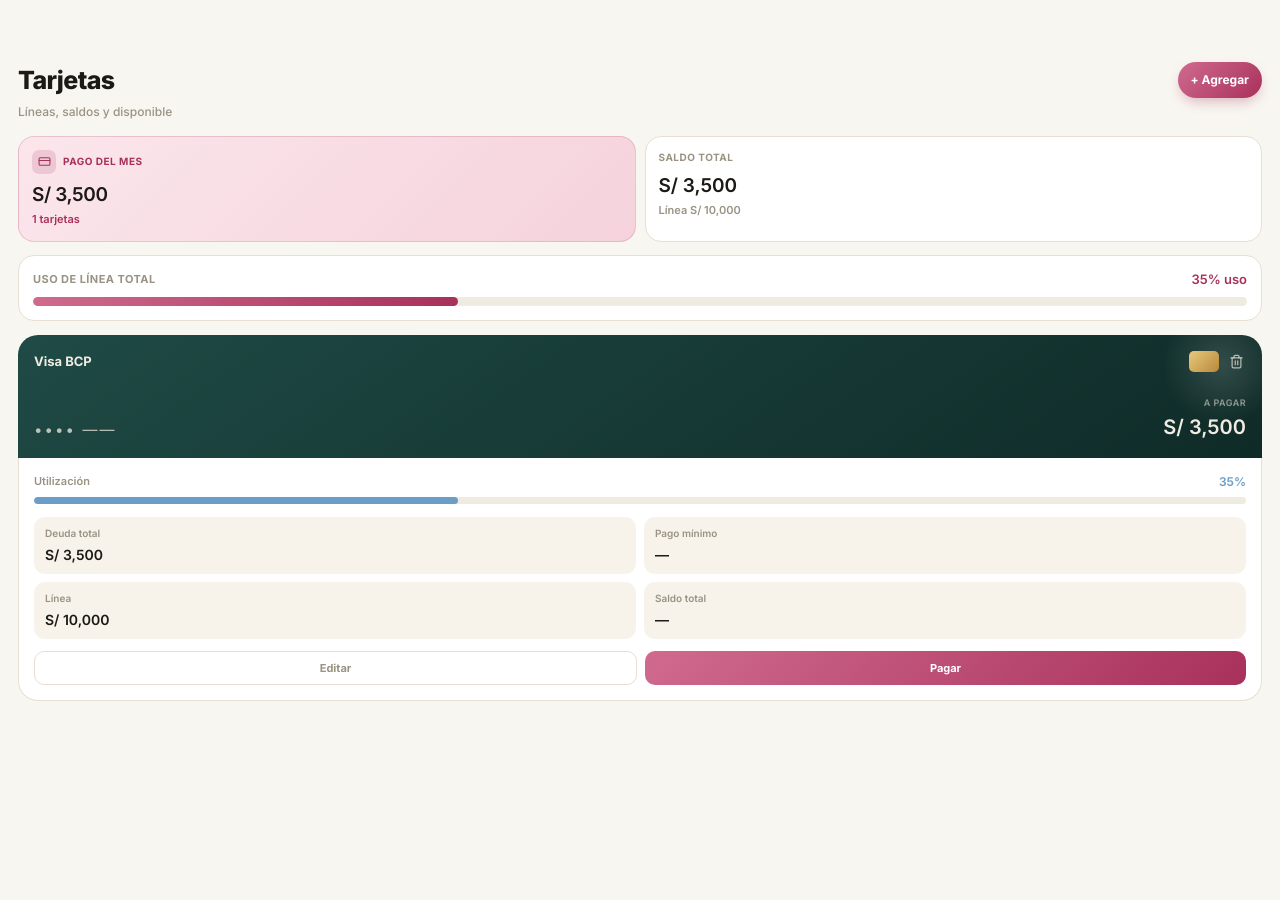
Test case: should TarjetasView › should show edit form when edit button is clicked
The width and height of the screenshot is (1280, 900).
Click the button with test id "edit-button".
click(336, 668)  # box top-left (34, 650), bottom-right (637, 685)
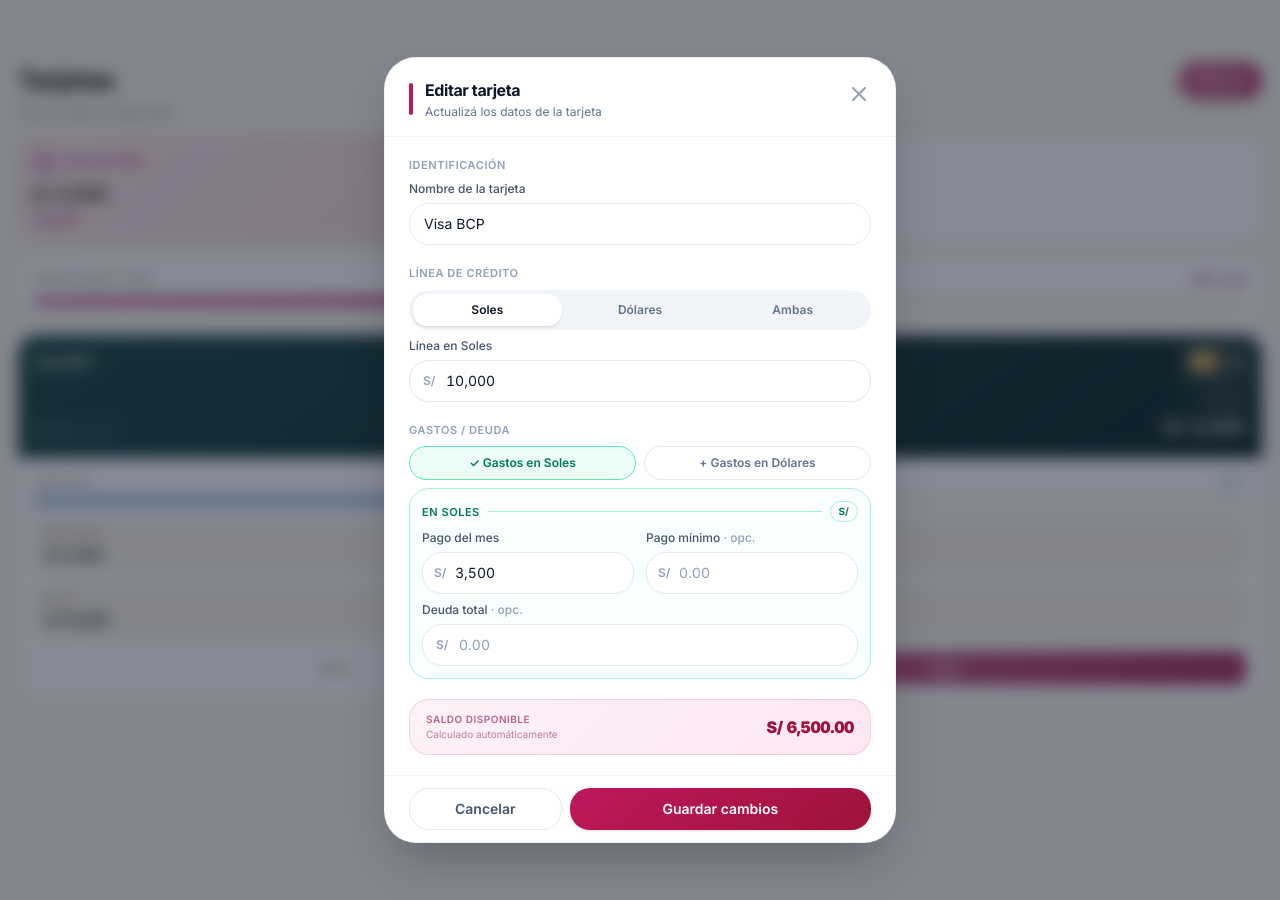
Check: the field with test id "descripcion-input" is shown, box top-left (409, 203), bottom-right (871, 245)
Check: the button with test id "submit-button" is shown, box top-left (570, 788), bottom-right (871, 830)
Check: the button named "Cerrar modal" is shown, box top-left (843, 78), bottom-right (875, 110)
